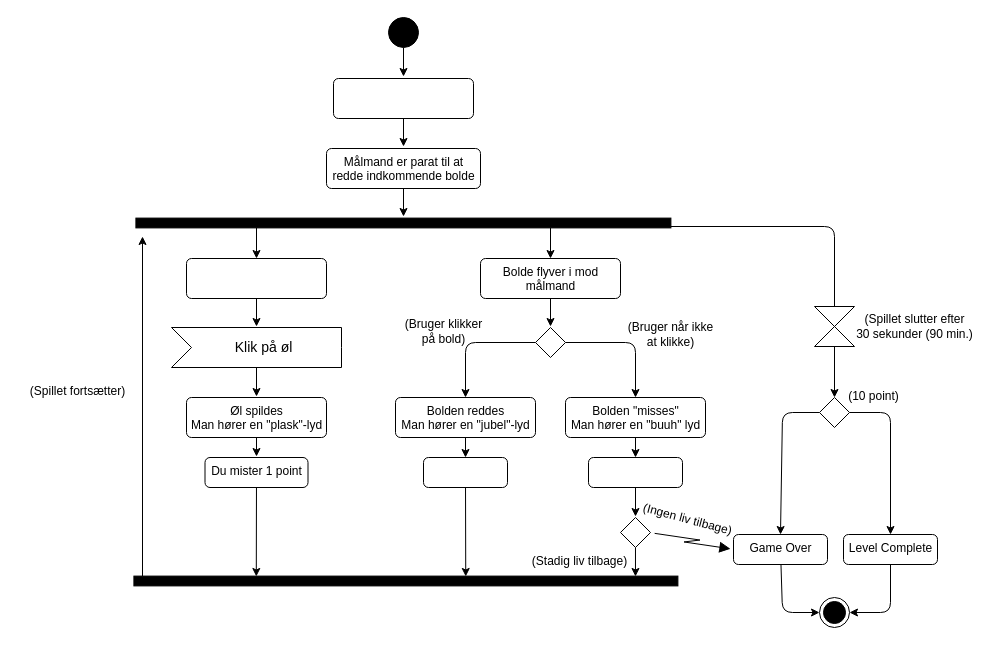
Image size: 1001x645. Some labels were removed from this diagram. The centre of each missing label's shape, as x and y in pixels:
Du får 1 point: the point at 465,472
Du mister 1 liv: the point at 635,472
Introduktion til målmand - Baggrundsmusik starter: the point at 403,98
Øl flyver i mod målmand: the point at 256,278
